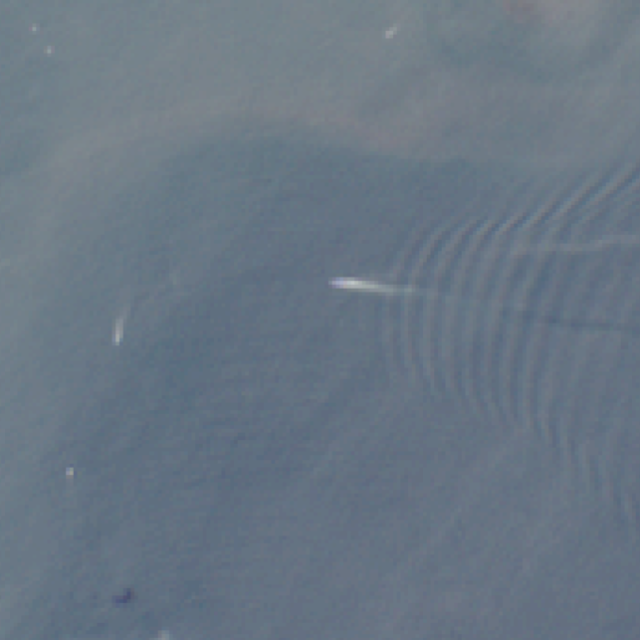wake: (297, 163, 608, 426)
